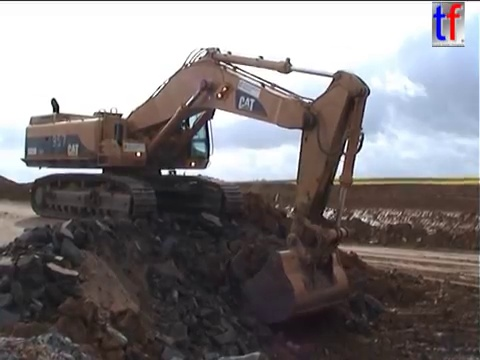excavator: (17, 45, 373, 326)
